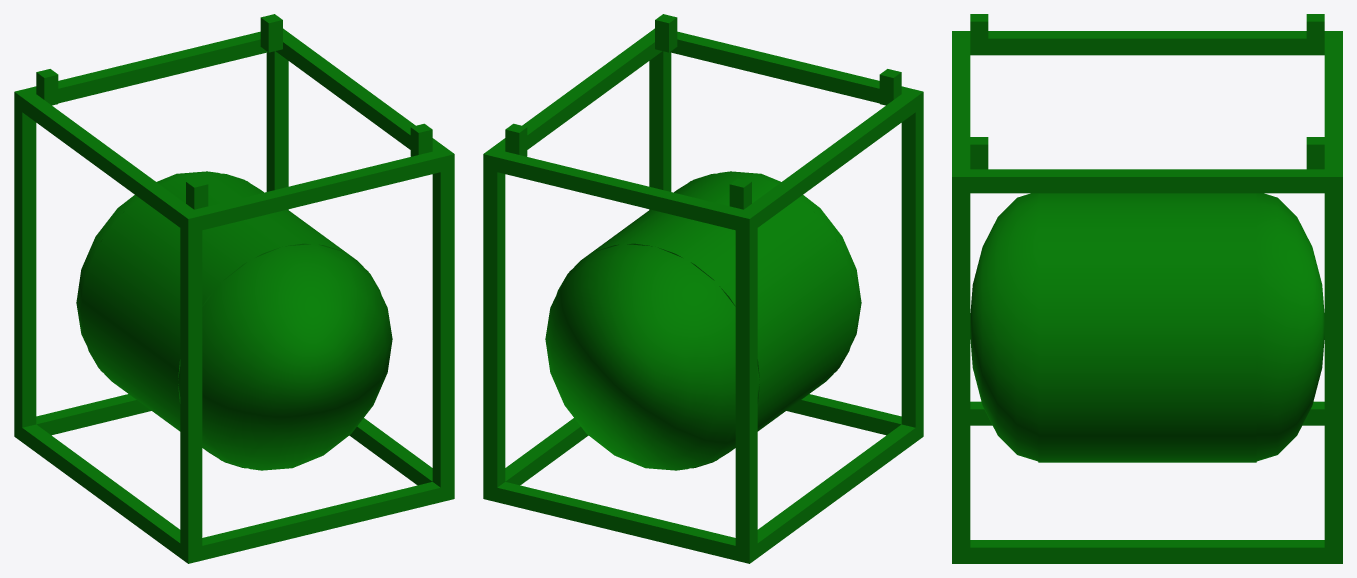
Rendered from Image-1710907768561-2281130636352_42-VS56.fbx.
3 views of the same model, side by side, from view 1: azimuth 30°, elevation 25°; view 2: azimuth 150°, elevation 25°; view 3: azimuth 270°, elevation 25° (orthographic). The views are drawn at different scales.
Parts seen in each view (by area): view 1: DISH 2 of SUBEQUIPMENT /42-VS56/DRUM, CYLINDER 1 of SUBEQUIPMENT /42-VS56/DRUM, BOX 12 of SUBEQUIPMENT /42-VS56/FRAME, BOX 9 of SUBEQUIPMENT /42-VS56/FRAME, BOX 11 of SUBEQUIPMENT /42-VS56/FRAME, BOX 6 of SUBEQUIPMENT /42-VS56/FRAME, BOX 5 of SUBEQUIPMENT /42-VS56/FRAME, BOX 4 of SUBEQUIPMENT /42-VS56/FRAME, BOX 3 of SUBEQUIPMENT /42-VS56/FRAME, BOX 8 of SUBEQUIPMENT /42-VS56/FRAME, BOX 2 of SUBEQUIPMENT /42-VS56/FRAME, BOX 10 of SUBEQUIPMENT /42-VS56/FRAME (+7 smaller); view 2: DISH 1 of SUBEQUIPMENT /42-VS56/DRUM, CYLINDER 1 of SUBEQUIPMENT /42-VS56/DRUM, BOX 11 of SUBEQUIPMENT /42-VS56/FRAME, BOX 10 of SUBEQUIPMENT /42-VS56/FRAME, BOX 12 of SUBEQUIPMENT /42-VS56/FRAME, BOX 8 of SUBEQUIPMENT /42-VS56/FRAME, BOX 7 of SUBEQUIPMENT /42-VS56/FRAME, BOX 4 of SUBEQUIPMENT /42-VS56/FRAME, BOX 3 of SUBEQUIPMENT /42-VS56/FRAME, BOX 6 of SUBEQUIPMENT /42-VS56/FRAME, BOX 2 of SUBEQUIPMENT /42-VS56/FRAME, BOX 9 of SUBEQUIPMENT /42-VS56/FRAME (+7 smaller); view 3: CYLINDER 1 of SUBEQUIPMENT /42-VS56/DRUM, DISH 1 of SUBEQUIPMENT /42-VS56/DRUM, DISH 2 of SUBEQUIPMENT /42-VS56/DRUM, BOX 2 of SUBEQUIPMENT /42-VS56/FRAME, BOX 1 of SUBEQUIPMENT /42-VS56/FRAME, BOX 4 of SUBEQUIPMENT /42-VS56/FRAME, BOX 9 of SUBEQUIPMENT /42-VS56/FRAME, BOX 10 of SUBEQUIPMENT /42-VS56/FRAME, BOX 6 of SUBEQUIPMENT /42-VS56/FRAME, BOX 8 of SUBEQUIPMENT /42-VS56/FRAME, BOX 3 of SUBEQUIPMENT /42-VS56/FRAME, BOX 14 of SUBEQUIPMENT /42-VS56/FRAME (+3 smaller).
Boxes of the visible parts, left/top/right/bottom form: DISH 2 of SUBEQUIPMENT /42-VS56/DRUM: left=178, top=244, right=392, bottom=470; CYLINDER 1 of SUBEQUIPMENT /42-VS56/DRUM: left=80, top=172, right=381, bottom=468; BOX 12 of SUBEQUIPMENT /42-VS56/FRAME: left=180, top=228, right=202, bottom=549; BOX 9 of SUBEQUIPMENT /42-VS56/FRAME: left=432, top=169, right=454, bottom=487; BOX 11 of SUBEQUIPMENT /42-VS56/FRAME: left=14, top=106, right=36, bottom=427; BOX 6 of SUBEQUIPMENT /42-VS56/FRAME: left=194, top=151, right=440, bottom=230; BOX 5 of SUBEQUIPMENT /42-VS56/FRAME: left=202, top=482, right=440, bottom=560; BOX 4 of SUBEQUIPMENT /42-VS56/FRAME: left=14, top=88, right=202, bottom=233; BOX 3 of SUBEQUIPMENT /42-VS56/FRAME: left=14, top=422, right=202, bottom=563; BOX 8 of SUBEQUIPMENT /42-VS56/FRAME: left=28, top=31, right=267, bottom=103; BOX 2 of SUBEQUIPMENT /42-VS56/FRAME: left=275, top=28, right=454, bottom=171; BOX 10 of SUBEQUIPMENT /42-VS56/FRAME: left=266, top=51, right=288, bottom=209; DISH 1 of SUBEQUIPMENT /42-VS56/DRUM: left=545, top=244, right=759, bottom=470; CYLINDER 1 of SUBEQUIPMENT /42-VS56/DRUM: left=556, top=172, right=857, bottom=468; BOX 11 of SUBEQUIPMENT /42-VS56/FRAME: left=735, top=228, right=757, bottom=549; BOX 10 of SUBEQUIPMENT /42-VS56/FRAME: left=483, top=169, right=505, bottom=487; BOX 12 of SUBEQUIPMENT /42-VS56/FRAME: left=901, top=106, right=923, bottom=427; BOX 8 of SUBEQUIPMENT /42-VS56/FRAME: left=497, top=151, right=743, bottom=230; BOX 7 of SUBEQUIPMENT /42-VS56/FRAME: left=497, top=482, right=735, bottom=560; BOX 4 of SUBEQUIPMENT /42-VS56/FRAME: left=735, top=88, right=923, bottom=233; BOX 3 of SUBEQUIPMENT /42-VS56/FRAME: left=735, top=422, right=923, bottom=563; BOX 6 of SUBEQUIPMENT /42-VS56/FRAME: left=670, top=31, right=909, bottom=103; BOX 2 of SUBEQUIPMENT /42-VS56/FRAME: left=483, top=28, right=662, bottom=171; BOX 9 of SUBEQUIPMENT /42-VS56/FRAME: left=649, top=51, right=671, bottom=209; CYLINDER 1 of SUBEQUIPMENT /42-VS56/DRUM: left=1038, top=193, right=1256, bottom=462; DISH 1 of SUBEQUIPMENT /42-VS56/DRUM: left=1256, top=193, right=1324, bottom=461; DISH 2 of SUBEQUIPMENT /42-VS56/DRUM: left=970, top=193, right=1038, bottom=461; BOX 2 of SUBEQUIPMENT /42-VS56/FRAME: left=952, top=169, right=1342, bottom=193; BOX 1 of SUBEQUIPMENT /42-VS56/FRAME: left=952, top=540, right=1342, bottom=563; BOX 4 of SUBEQUIPMENT /42-VS56/FRAME: left=952, top=31, right=1342, bottom=55; BOX 9 of SUBEQUIPMENT /42-VS56/FRAME: left=952, top=193, right=970, bottom=547; BOX 10 of SUBEQUIPMENT /42-VS56/FRAME: left=1324, top=193, right=1342, bottom=547; BOX 6 of SUBEQUIPMENT /42-VS56/FRAME: left=952, top=38, right=970, bottom=169; BOX 8 of SUBEQUIPMENT /42-VS56/FRAME: left=1324, top=38, right=1342, bottom=169; BOX 3 of SUBEQUIPMENT /42-VS56/FRAME: left=970, top=401, right=1324, bottom=425; BOX 14 of SUBEQUIPMENT /42-VS56/FRAME: left=1306, top=14, right=1324, bottom=54.
Bounding box in the file's own units: 1.9 × 2.15 × 2.5.
